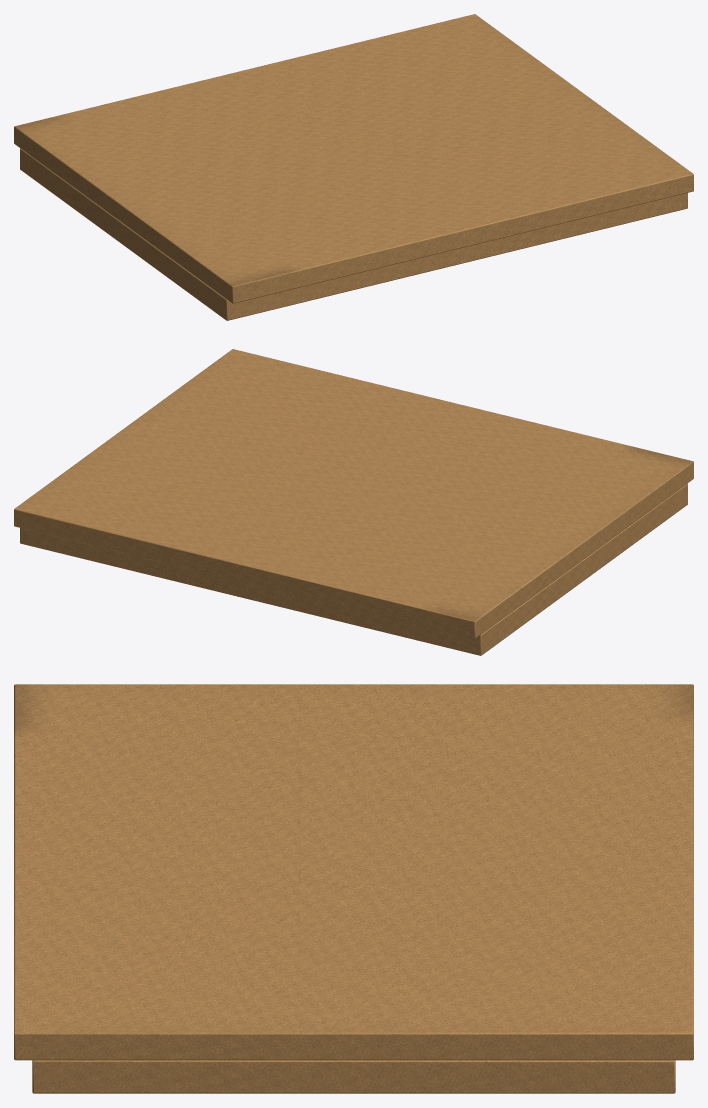
The model's file is 8-top-box-lid-left.fbx.
3 renders of one model, top to bottom at view 1: azimuth 30°, elevation 25°; view 2: azimuth 150°, elevation 25°; view 3: azimuth 270°, elevation 25°, orthographic. The views are drawn at different scales.
Visible parts, largest first — view 1: top-box-lid-left; view 2: top-box-lid-left; view 3: top-box-lid-left.
Part boxes in pixels (<box>): top-box-lid-left: <box>14,14,693,320</box>; top-box-lid-left: <box>14,349,693,655</box>; top-box-lid-left: <box>14,684,693,1093</box>.
Bounding box in the file's own units: 9000 × 730 × 7400.
1 material, 1 textured.
